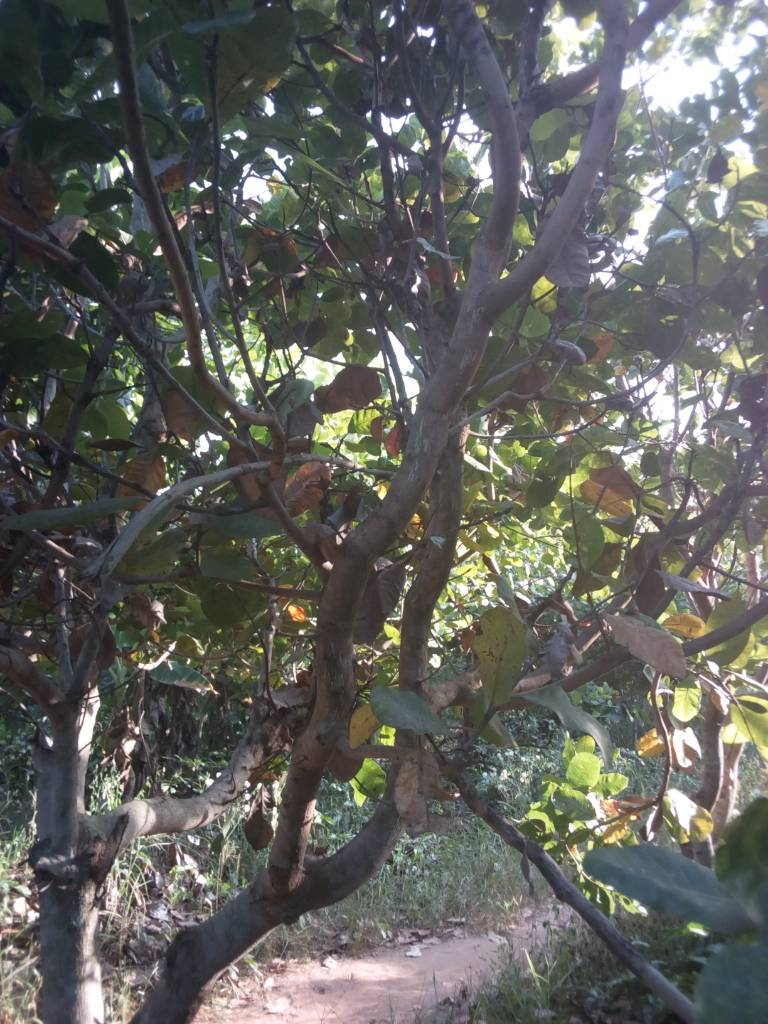Anthracnose: (472, 607, 533, 714)
